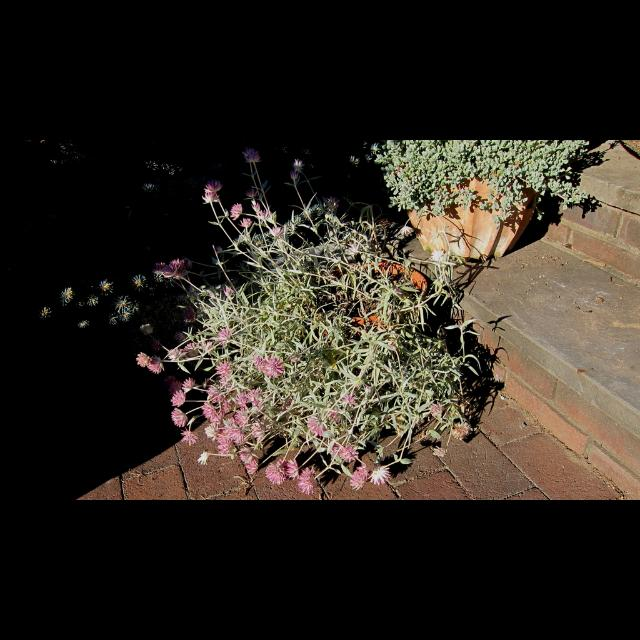Flower: (166, 324, 476, 492), (40, 272, 144, 332), (245, 188, 282, 238), (152, 260, 172, 280), (242, 144, 262, 162), (228, 202, 244, 222), (170, 260, 187, 276), (136, 353, 152, 367), (208, 181, 224, 193), (398, 224, 414, 234), (151, 362, 163, 374), (203, 191, 215, 203), (222, 285, 234, 297), (190, 304, 197, 320), (351, 240, 359, 254), (432, 250, 443, 260), (290, 170, 300, 180), (241, 218, 253, 226), (294, 159, 306, 167), (329, 197, 337, 206)
